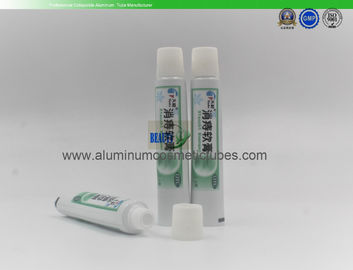Nonrec_Plastic: (149, 33, 232, 227), (50, 178, 214, 247)
